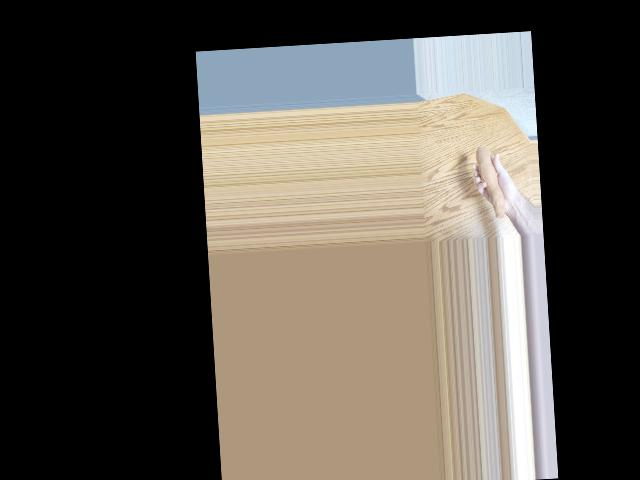sweet_potato: (475, 143, 506, 217)
